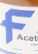Fisher: (1, 9, 36, 44)
